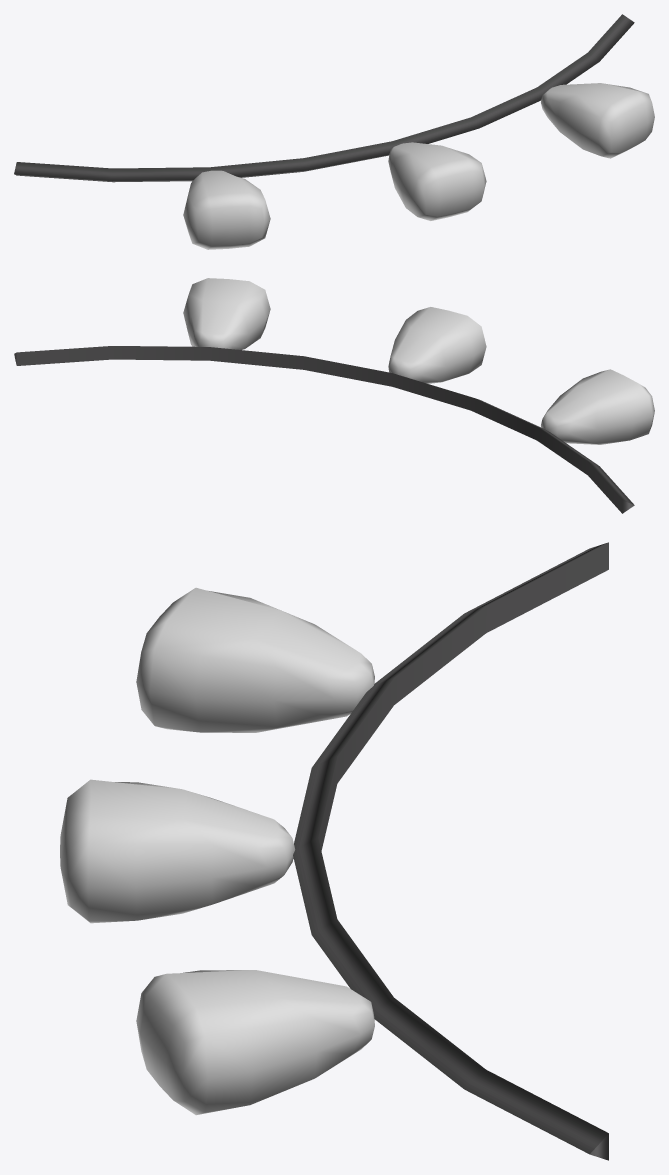
File: CandyCornLights.fbx
3 views of the same model, one above another, from view 1: azimuth 30°, elevation 25°; view 2: azimuth 150°, elevation 25°; view 3: azimuth 270°, elevation 25° (orthographic). The views are drawn at different scales.
Parts seen in each view (by area): view 1: CandyCornLightsLights, CandyCornLightsString; view 2: CandyCornLightsLights, CandyCornLightsString; view 3: CandyCornLightsLights, CandyCornLightsString.
Boxes of the visible parts, bbox=[...] form: CandyCornLightsLights: bbox=[183, 83, 654, 249]; CandyCornLightsString: bbox=[14, 14, 634, 182]; CandyCornLightsLights: bbox=[183, 278, 654, 444]; CandyCornLightsString: bbox=[14, 346, 634, 513]; CandyCornLightsLights: bbox=[60, 587, 374, 1115]; CandyCornLightsString: bbox=[293, 542, 608, 1160].
Bounding box in the file's own units: 246 × 21.01 × 94.26.
